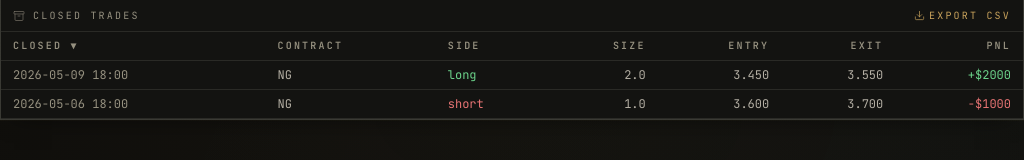
Test: ClosedTradesTable › toggles sort indicator when clicking column header
Click the button "PnL": (959, 46) [907,38,1011,54]
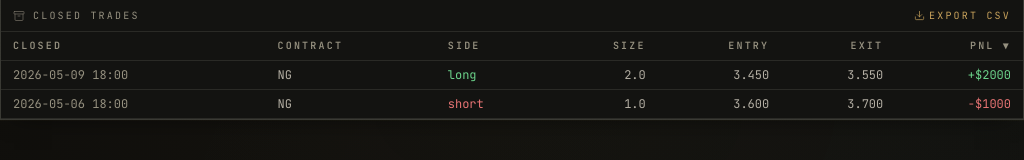
Now the button "PnL ▼" is shown, box [907,38,1011,54]
